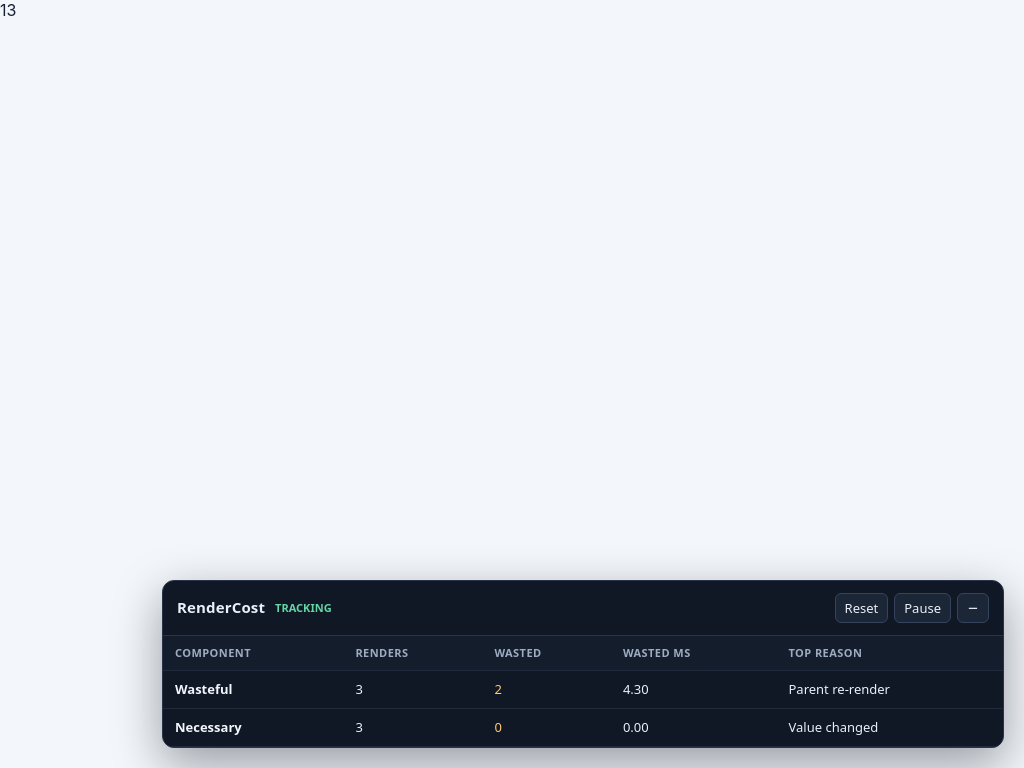
RenderCostPanel › sorts components by unnecessary renders and shows selected render history
Expected: the row "Necessary 3 0 0.00 Value changed" is shown, [163, 709, 1003, 746]
Step 1. Click the row "Wasteful 3 2 4.30 Parent re-render" → (583, 690), box [163, 671, 1003, 709]
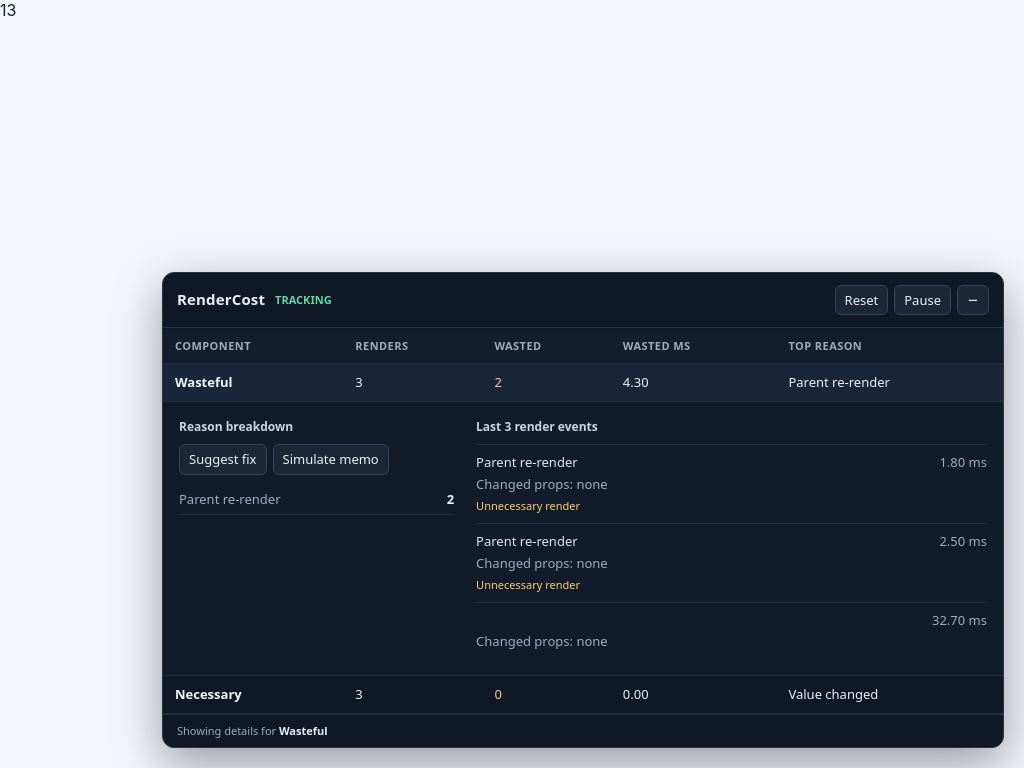
Result: the text "Parent re-render" below "Reason breakdown" is shown at [179, 490, 280, 508]
Result: the text "Changed props: none" below "1.80" is shown at [476, 475, 608, 493]
